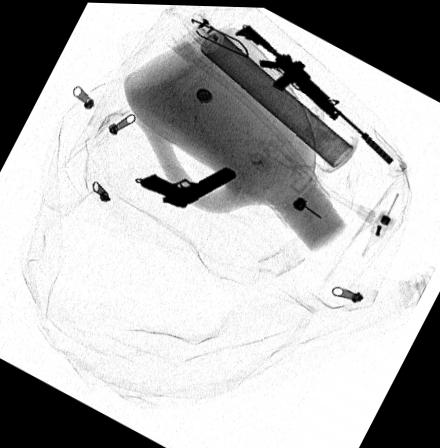Gun: (235, 22, 394, 164), (137, 164, 238, 208)
